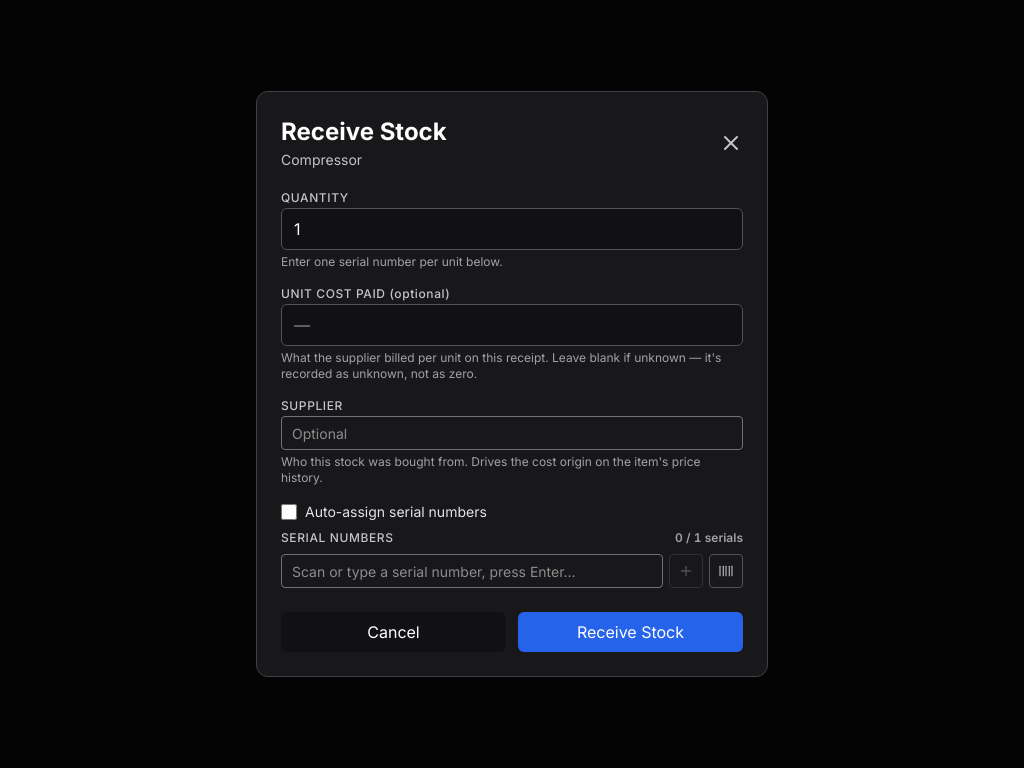
Test: ReceiveStockModal — fractional quantity › rejects 2.5 for a serialized item — a serial is one whole unit
This screenshot has width=1024, height=768.
Replace the text in the number field labelled "Quantity" with "2.5" at (512, 229), box [281,208,743,250]
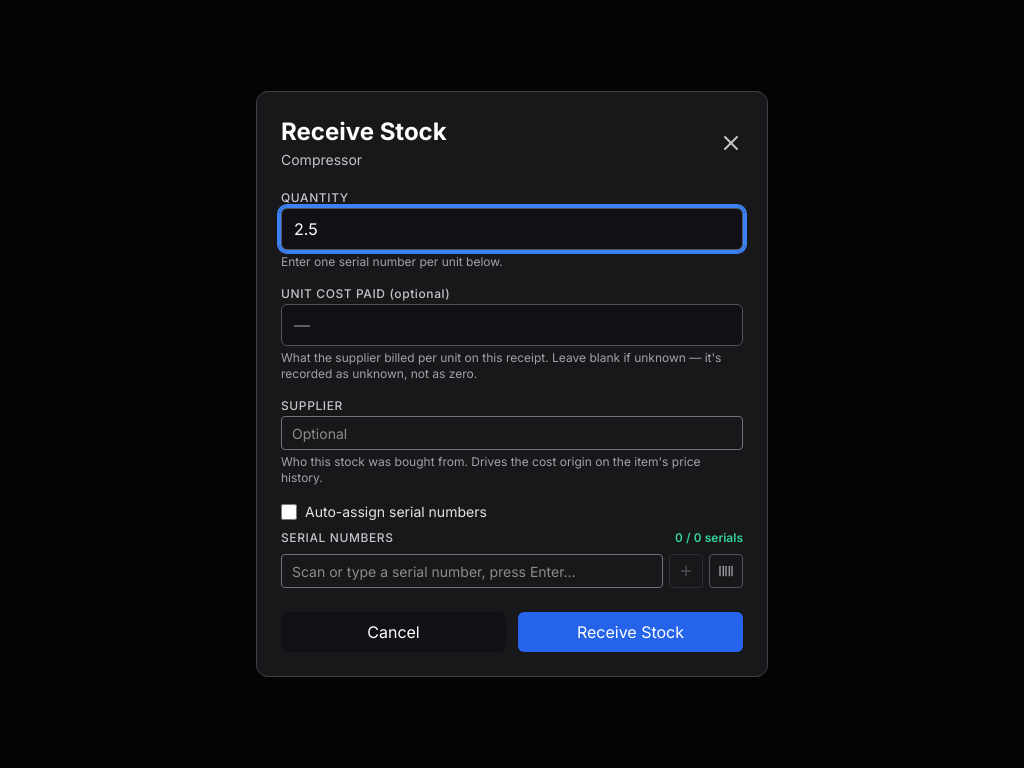
Click the button "Receive Stock" at (630, 632), box [518,612,743,652]
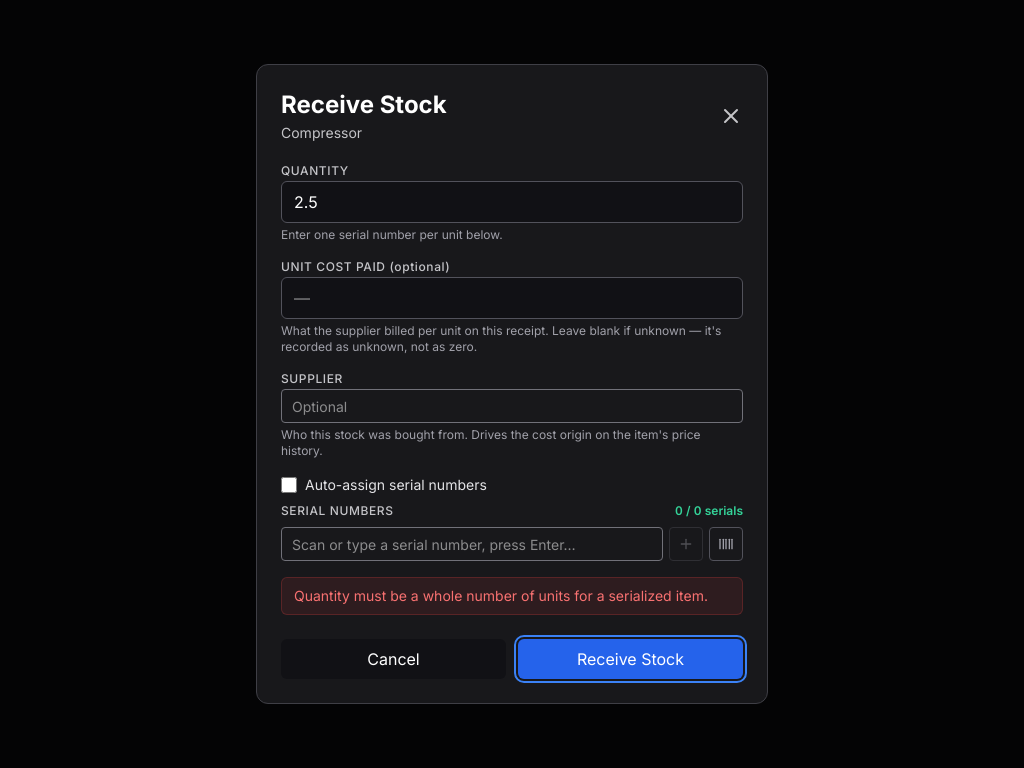
Now the text "Quantity must be a whole number of units for a serialized item." is shown, box [281,577,743,615]
